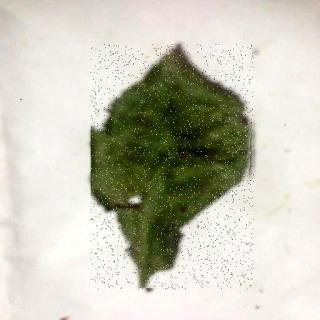Red Leaf Spot: (92, 46, 255, 291)
